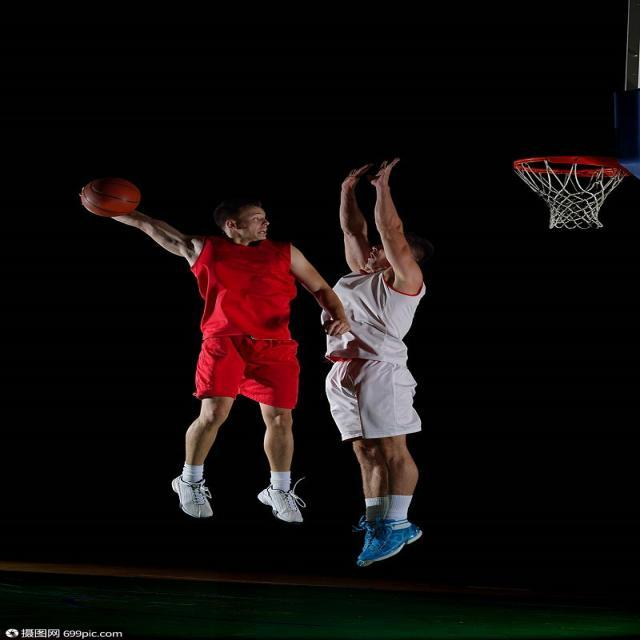rim: (76, 178, 142, 220)
